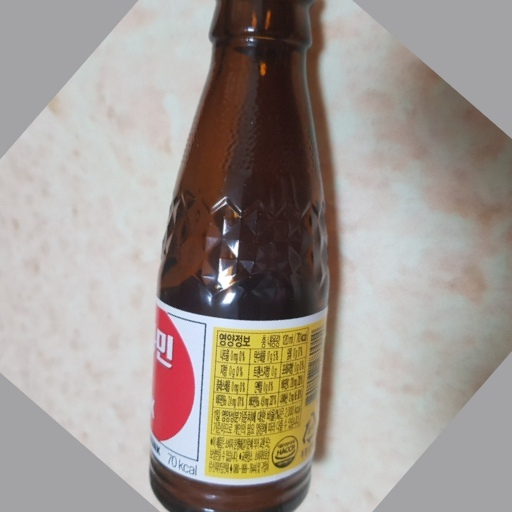Glass_3: (143, 1, 332, 512)
